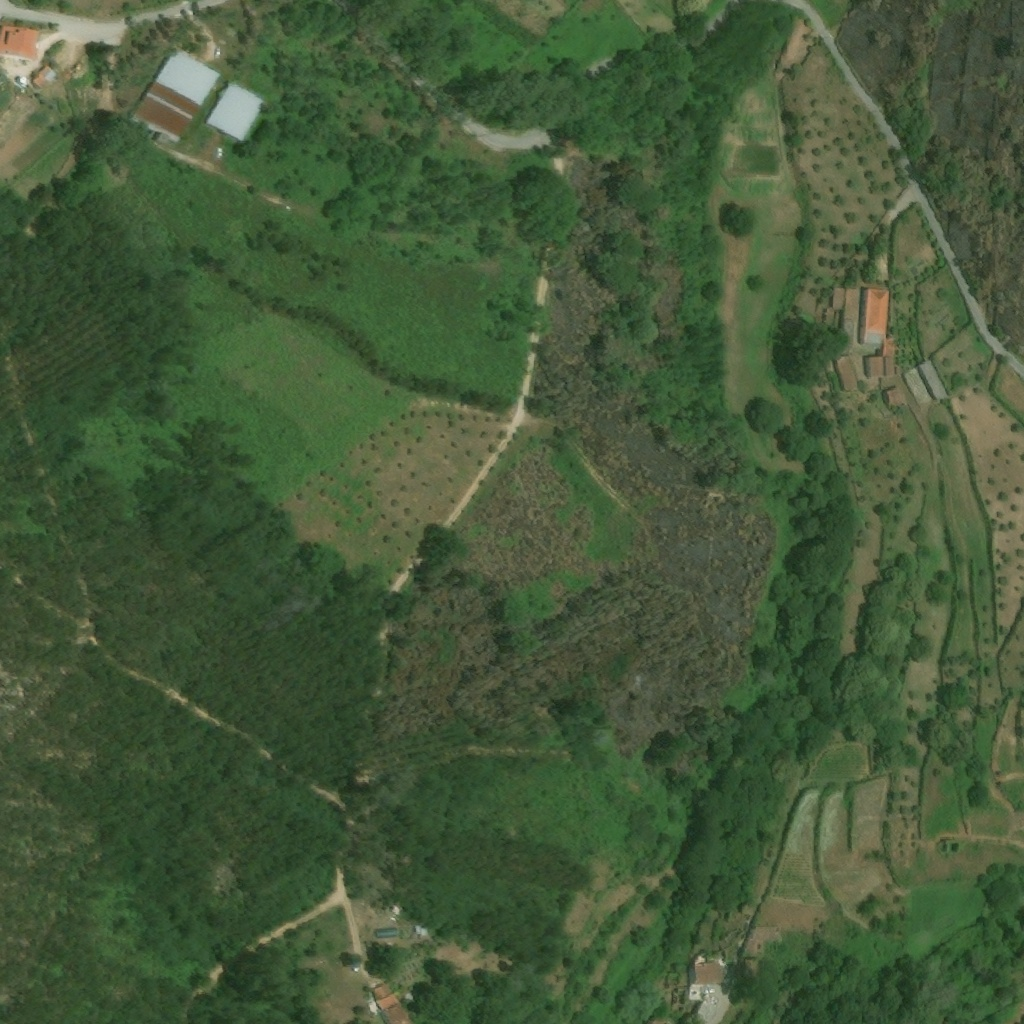0 no-damage: (136, 51, 221, 140), (205, 81, 267, 140), (687, 956, 731, 1023), (857, 287, 892, 349), (374, 983, 416, 1023), (0, 24, 41, 61), (916, 359, 947, 402), (864, 340, 897, 378), (832, 356, 859, 394), (30, 64, 56, 90), (883, 386, 903, 409), (845, 289, 857, 320), (375, 927, 401, 938), (400, 927, 423, 938), (834, 288, 845, 309), (422, 927, 431, 936), (24, 82, 31, 88)
